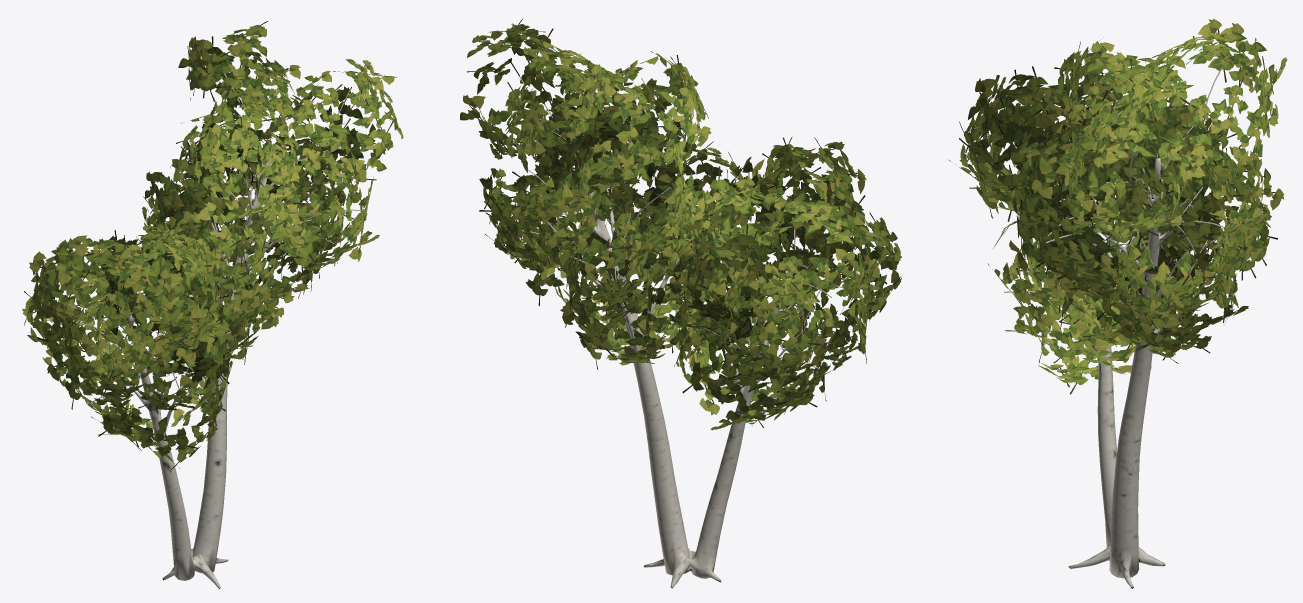
Rendered from tree_birch.glb.
3 renders of one model, left to right at view 1: azimuth 30°, elevation 25°; view 2: azimuth 150°, elevation 25°; view 3: azimuth 270°, elevation 25°, orthographic. The views are drawn at different scales.
Visible parts, largest first — view 1: tree_birch; view 2: tree_birch; view 3: tree_birch.
Boxes of the visible parts, x1,y1,x2,y2 form: tree_birch: (22,21,403,588); tree_birch: (460,19,901,588); tree_birch: (948,18,1287,588).
Size of the model in its own units: 5.91 by 7.33 by 3.89.
2 materials, 2 textured.
